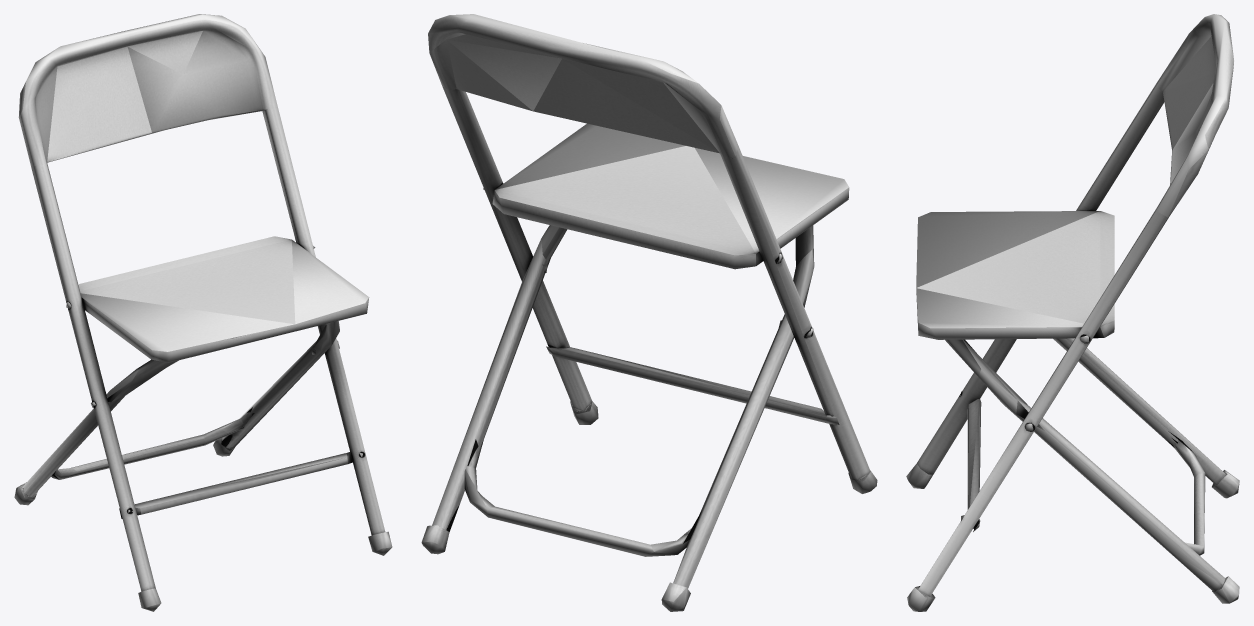
The model's file is folding_chair.dae.
3 views of the same model, side by side, from view 1: azimuth 30°, elevation 25°; view 2: azimuth 150°, elevation 25°; view 3: azimuth 270°, elevation 25° (orthographic). The views are drawn at different scales.
Parts seen in each view (by area): view 1: 13494_Folding_Chairs_v1_L3; view 2: 13494_Folding_Chairs_v1_L3; view 3: 13494_Folding_Chairs_v1_L3.
Boxes of the visible parts, <box> form: 13494_Folding_Chairs_v1_L3: <box>14,14,392,611</box>; 13494_Folding_Chairs_v1_L3: <box>421,14,877,611</box>; 13494_Folding_Chairs_v1_L3: <box>906,14,1239,611</box>.
Size of the model in its own units: 0.4431 by 0.4662 by 0.7634.
1 material, 1 textured.
